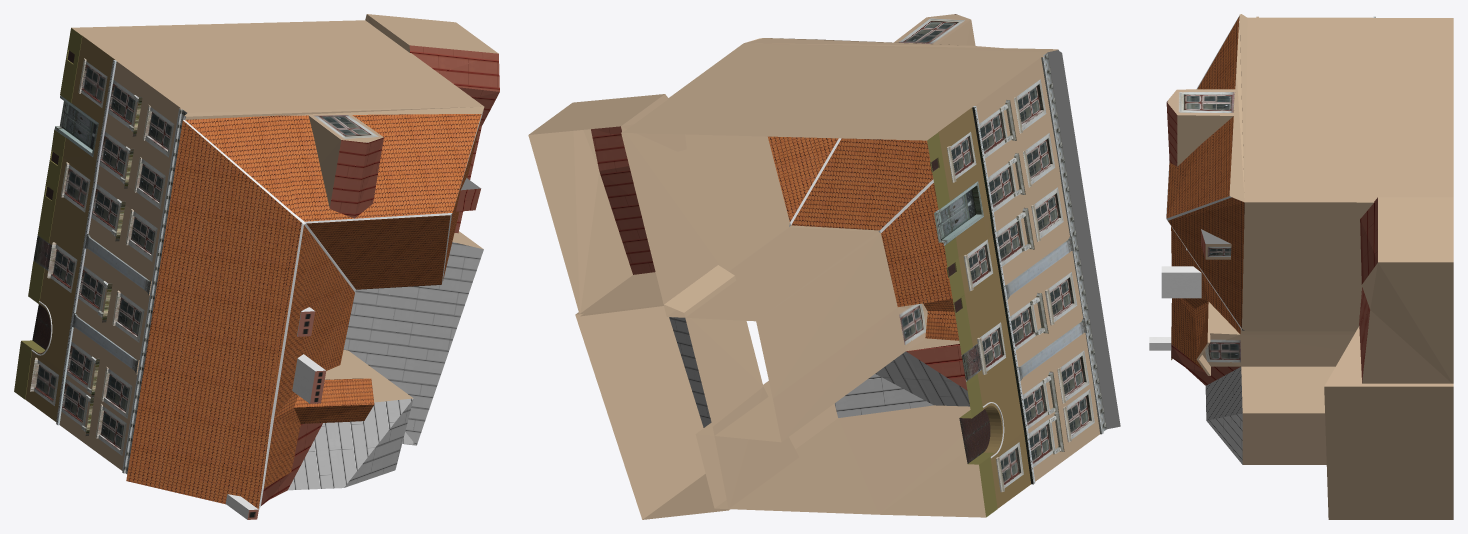
File: Pikk_66.obj
3 views of the same model, side by side, from view 1: azimuth 30°, elevation 25°; view 2: azimuth 150°, elevation 25°; view 3: azimuth 270°, elevation 25° (orthographic). The views are drawn at different scales.
Visible parts, largest first — view 1: polySurface8; view 2: polySurface8; view 3: polySurface8.
Boxes of the visible parts, x1=… form: polySurface8: x1=14, y1=14, x2=499, y2=519; polySurface8: x1=528, y1=14, x2=1120, y2=519; polySurface8: x1=1149, y1=14, x2=1453, y2=519.
Size of the model in its own units: 26.27 by 24.2 by 17.37.
